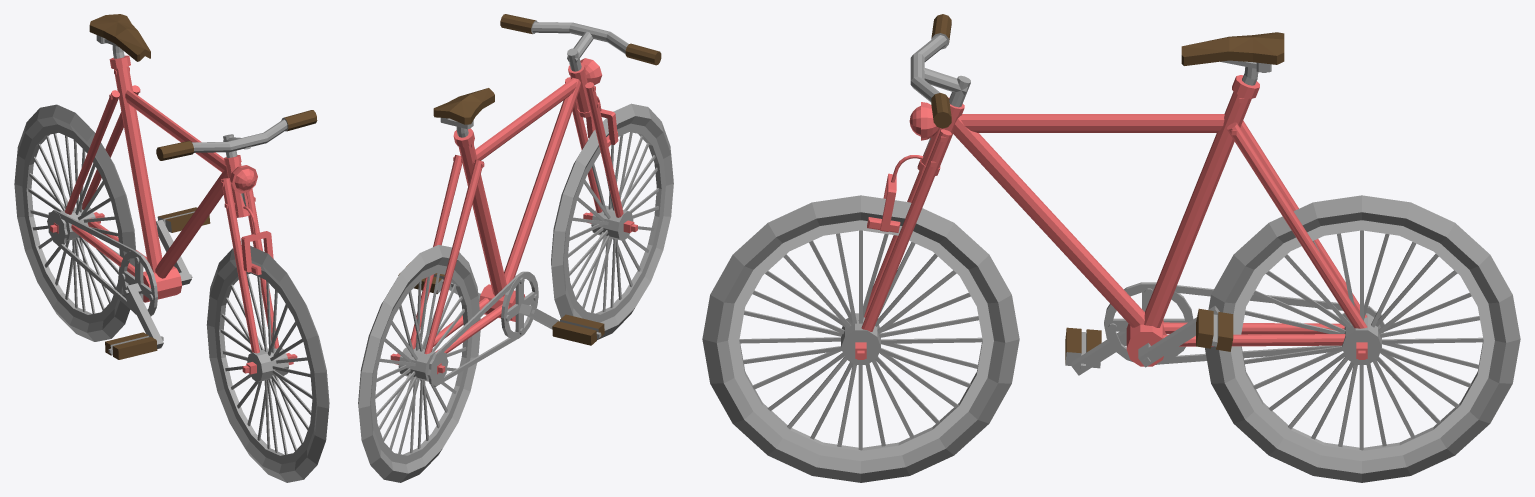
Rendered from Bike.gltf.
3 renders of one model, left to right at view 1: azimuth 30°, elevation 25°; view 2: azimuth 150°, elevation 25°; view 3: azimuth 270°, elevation 25°, orthographic. The views are drawn at different scales.
Parts seen in each view (by area): view 1: Mesh7 Bike1 Model, Mesh2 Bike1 Model, Mesh6 Bike1 Model, Mesh5 Bike1 Model, Mesh1 Bike1 Model, Mesh8 Bike1 Model, Mesh10 Bike1 Model, Mesh3 Bike1 Model, Mesh4 Bike1 Model, Mesh9 Bike1 Model; view 2: Mesh2 Bike1 Model, Mesh6 Bike1 Model, Mesh7 Bike1 Model, Mesh1 Bike1 Model, Mesh5 Bike1 Model, Mesh8 Bike1 Model, Mesh10 Bike1 Model, Mesh3 Bike1 Model, Mesh4 Bike1 Model, Mesh9 Bike1 Model; view 3: Mesh7 Bike1 Model, Mesh6 Bike1 Model, Mesh2 Bike1 Model, Mesh5 Bike1 Model, Mesh8 Bike1 Model, Mesh1 Bike1 Model, Mesh10 Bike1 Model, Mesh4 Bike1 Model.
Part boxes in pixels (x1,y1,x2,y2): Mesh7 Bike1 Model: (206,246,329,482); Mesh2 Bike1 Model: (50,55,297,374); Mesh6 Bike1 Model: (14,104,136,341); Mesh5 Bike1 Model: (105,207,210,359); Mesh1 Bike1 Model: (156,110,317,160); Mesh8 Bike1 Model: (89,14,150,61); Mesh10 Bike1 Model: (120,251,157,316); Mesh3 Bike1 Model: (54,209,136,252); Mesh4 Bike1 Model: (54,242,133,312); Mesh9 Bike1 Model: (47,209,67,245); Mesh2 Bike1 Model: (390,58,637,374); Mesh6 Bike1 Model: (358,245,480,482); Mesh7 Bike1 Model: (551,103,673,339); Mesh1 Bike1 Model: (500,14,661,71); Mesh5 Bike1 Model: (398,262,604,345); Mesh8 Bike1 Model: (433,88,494,137); Mesh10 Bike1 Model: (501,271,538,339); Mesh3 Bike1 Model: (434,276,517,354); Mesh4 Bike1 Model: (433,338,517,386); Mesh9 Bike1 Model: (427,350,448,386); Mesh7 Bike1 Model: (702,195,1019,482); Mesh6 Bike1 Model: (1205,195,1520,482); Mesh2 Bike1 Model: (855,75,1367,366); Mesh5 Bike1 Model: (1065,306,1233,375); Mesh8 Bike1 Model: (1181,32,1284,85); Mesh1 Bike1 Model: (910,14,970,128); Mesh10 Bike1 Model: (1104,282,1193,364); Mesh4 Bike1 Model: (1158,345,1341,364).
Size of the model in its own units: 17.47 by 37.14 by 61.8.
